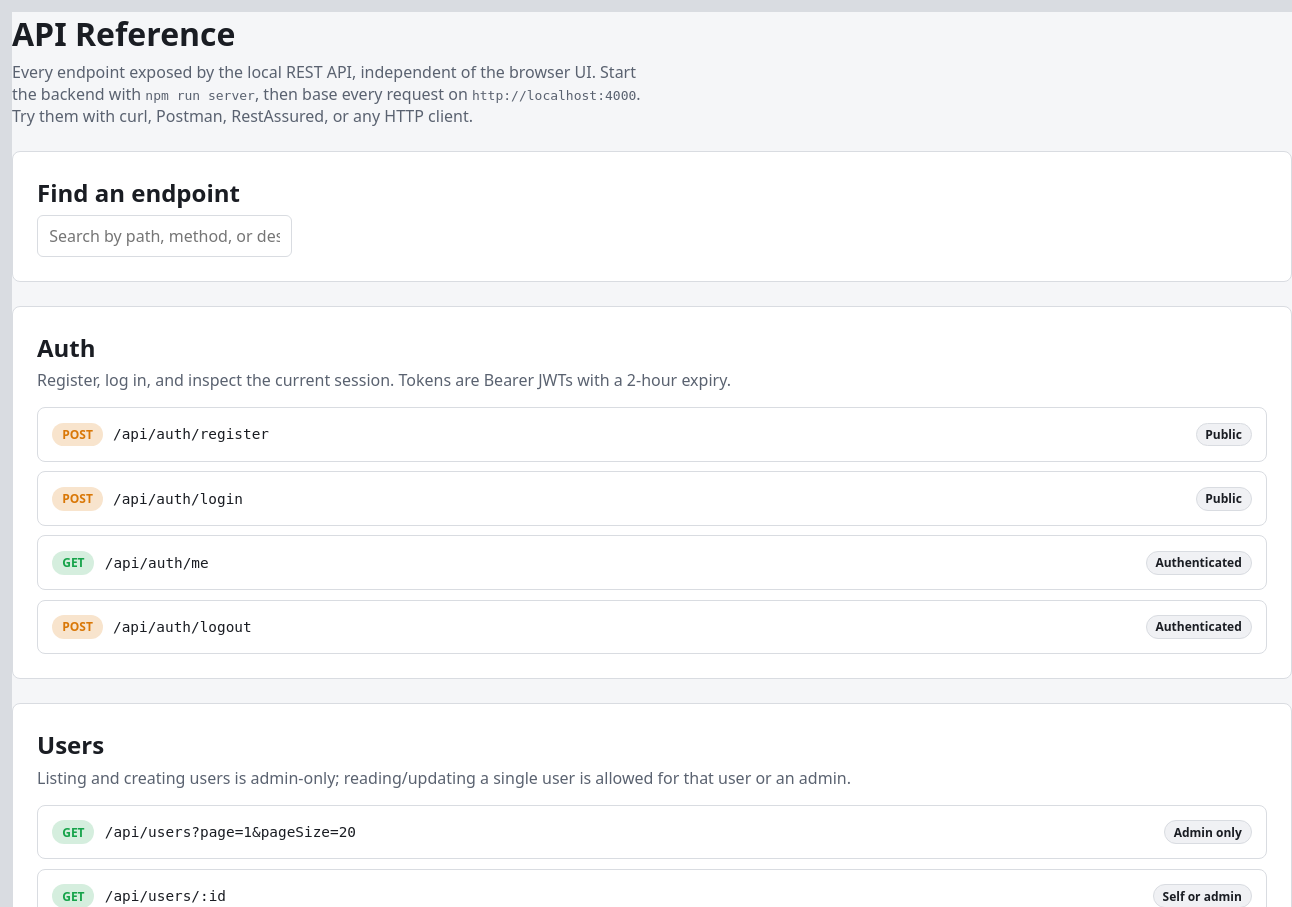
ApiReferencePage › shows curl, request and response details when an endpoint is expanded
Click the heading with test id "api-endpoint-summary-post-api-auth-login": (78, 499) [52,487,1252,510]
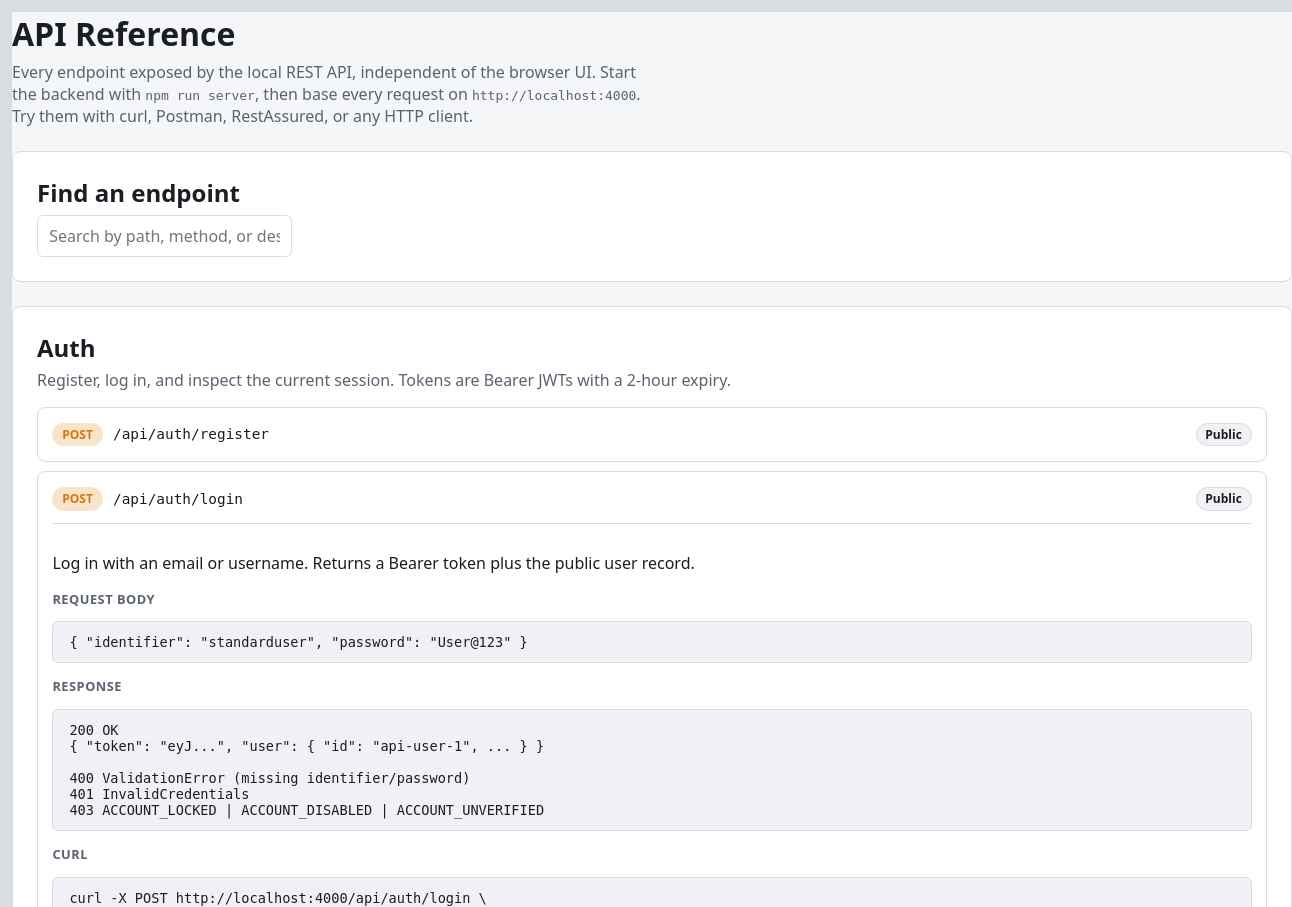
Now the text with test id "api-endpoint-response-post-api-auth-login" shows "200 OK", box [69,722,544,818]
